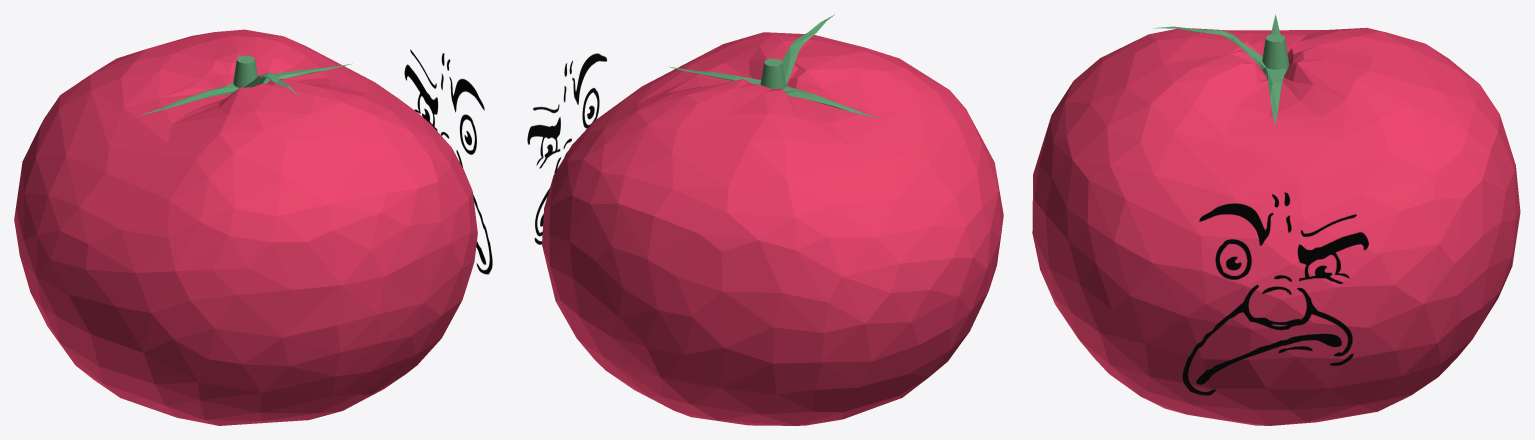
Rendered from Brandywine Tomato-Angry.glb.
3 renders of one model, left to right at view 1: azimuth 30°, elevation 25°; view 2: azimuth 150°, elevation 25°; view 3: azimuth 270°, elevation 25°, orthographic. The views are drawn at different scales.
Visible parts, largest first — view 1: Brandywine Tomato; view 2: Brandywine Tomato; view 3: Brandywine Tomato.
Part boxes in pixels (<box>): Brandywine Tomato: <box>14,29,492,425</box>; Brandywine Tomato: <box>527,14,1003,425</box>; Brandywine Tomato: <box>1032,14,1520,425</box>.
Size of what is drawn, in the model's own units: 2.89 by 2.24 by 2.87.
3 materials, 1 textured.
